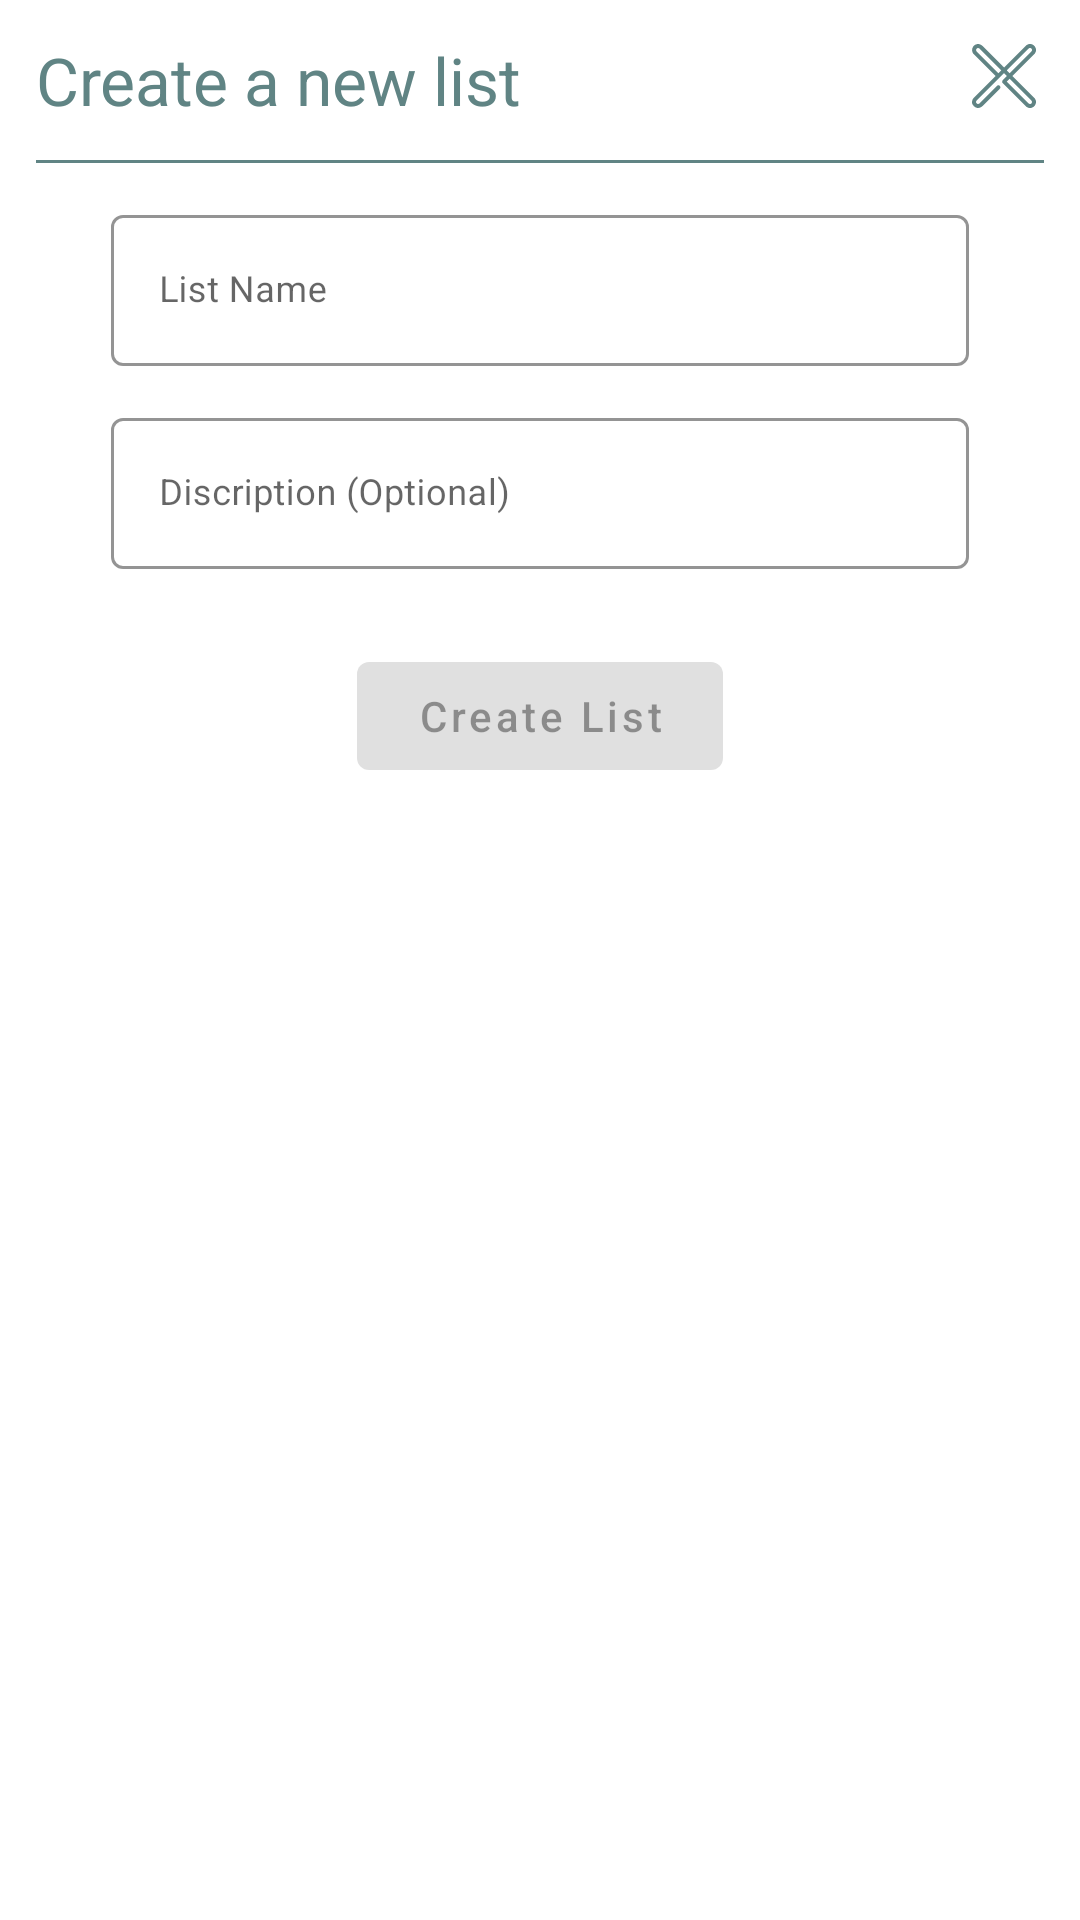

Icon click points for this 1080px x 1920px phone screenshot, format (x=x, y=y):
close: (x=1004, y=76)
